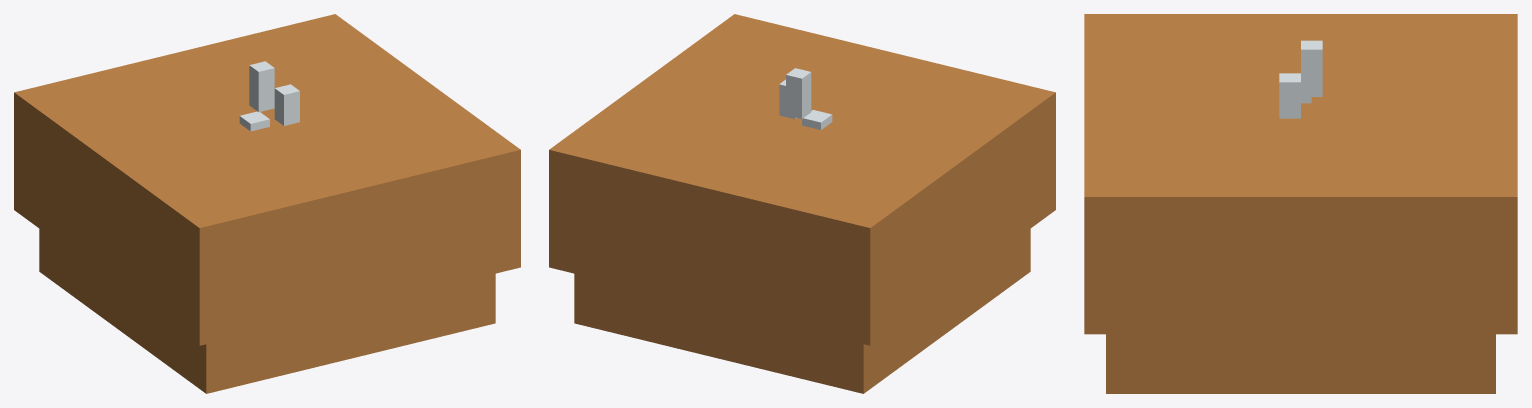
File: product_braise_stew.glb
The picture shows the model from 3 angles, left to right: view 1: azimuth 30°, elevation 25°; view 2: azimuth 150°, elevation 25°; view 3: azimuth 270°, elevation 25°; orthographic projection. The views are drawn at different scales.
Parts seen in each view (by area): view 1: ProductArt_body, ProductArt_steam; view 2: ProductArt_body, ProductArt_steam; view 3: ProductArt_body, ProductArt_steam.
Boxes of the visible parts, x1,y1,x2,y2 form: ProductArt_body: (14, 14, 520, 393); ProductArt_steam: (239, 61, 299, 131); ProductArt_body: (549, 14, 1055, 393); ProductArt_steam: (779, 68, 832, 129); ProductArt_body: (1084, 14, 1517, 393); ProductArt_steam: (1279, 40, 1322, 118).
Bounding box in the file's own units: 0.24 × 0.1626 × 0.24.
